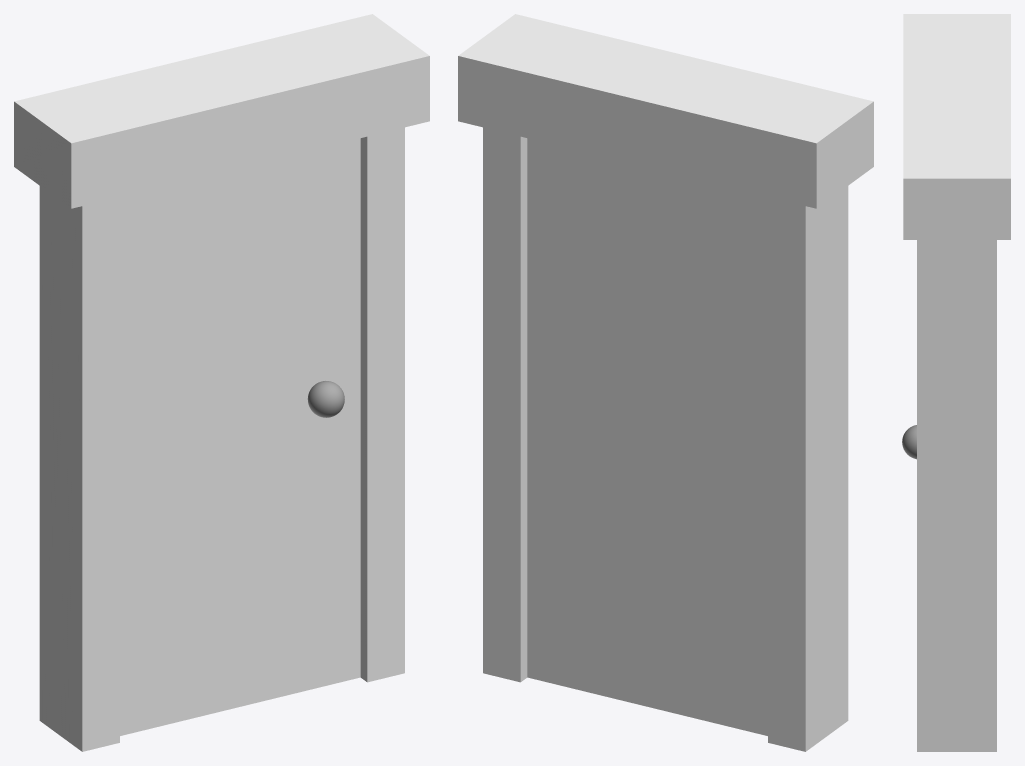
The model's file is MapSelect.fbx.
3 renders of one model, left to right at view 1: azimuth 30°, elevation 25°; view 2: azimuth 150°, elevation 25°; view 3: azimuth 270°, elevation 25°, orthographic. The views are drawn at different scales.
Parts seen in each view (by area): view 1: Pink, Lit; view 2: Pink; view 3: Pink, Lit.
Boxes of the visible parts, x1,y1,x2,y2 form: Pink: (14, 14, 429, 751); Lit: (307, 381, 344, 417); Pink: (458, 14, 873, 751); Pink: (903, 14, 1010, 751); Lit: (902, 425, 916, 459).
Size of the model in its own units: 1.47 by 2.42 by 0.4111.
Materials: 2 (2 with a texture image).
